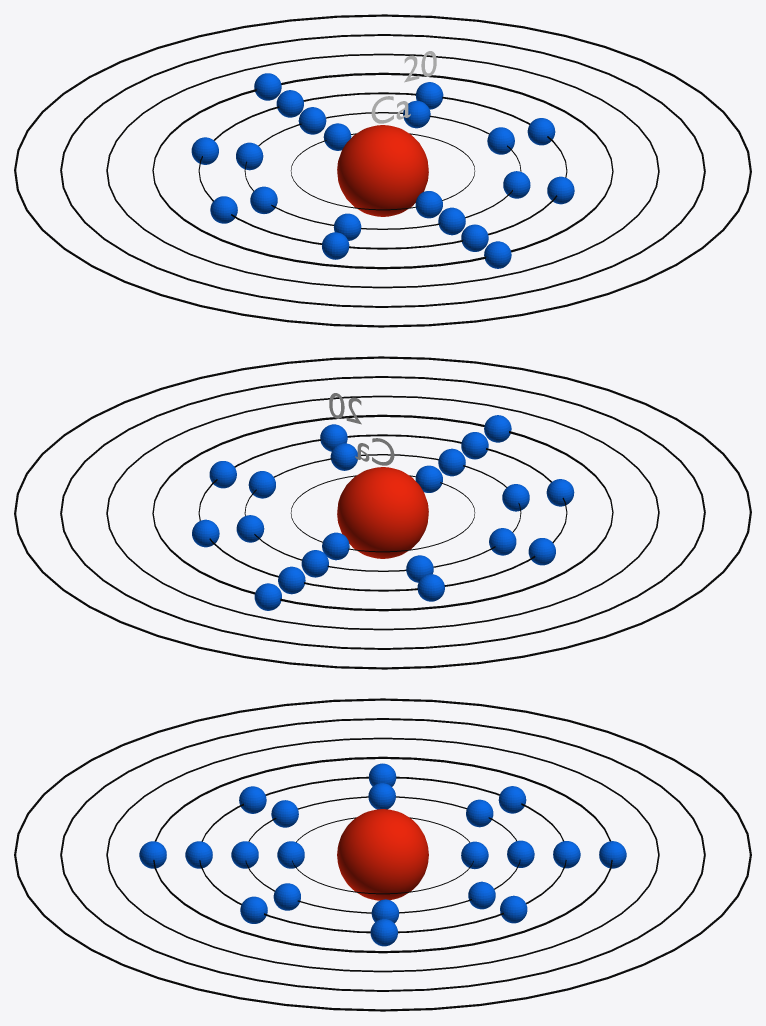
The picture shows the model from 3 angles, top to bottom: view 1: azimuth 30°, elevation 25°; view 2: azimuth 150°, elevation 25°; view 3: azimuth 270°, elevation 25°; orthographic projection.
Parts seen in each view (by area): view 1: Proton, Ca3, Ca2, n7, n6, n5, n4, n3, Ca4, Ca1, n2; view 2: Proton, Ca2, Ca3, n7, n6, n5, n4, n3, Ca4, Ca1, n2; view 3: Proton, Ca2, n7, Ca3, n6, n5, n4, n3, Ca1, Ca4, n2, n1.
Part boxes in pixels (x1,y1,x2,y2): Proton: [337, 125, 428, 216]; Ca3: [191, 82, 574, 259]; Ca2: [236, 100, 530, 240]; n7: [14, 14, 751, 327]; n6: [60, 34, 705, 307]; n5: [106, 53, 659, 288]; n4: [152, 72, 613, 269]; n3: [198, 92, 567, 249]; Ca4: [254, 73, 511, 268]; Ca1: [323, 123, 442, 218]; n2: [244, 112, 521, 229]; Proton: [337, 467, 428, 558]; Ca2: [236, 443, 529, 582]; Ca3: [192, 424, 574, 601]; n7: [14, 356, 751, 669]; n6: [60, 376, 705, 649]; n5: [106, 395, 659, 630]; n4: [152, 414, 613, 611]; n3: [198, 434, 567, 591]; Ca4: [254, 415, 511, 610]; Ca1: [322, 465, 442, 560]; n2: [244, 454, 521, 571]; Proton: [337, 809, 428, 900]; Ca2: [231, 783, 534, 923]; n7: [14, 698, 751, 1011]; Ca3: [185, 763, 580, 946]; n6: [60, 718, 705, 991]; n5: [106, 737, 659, 972]; n4: [153, 756, 612, 953]; n3: [199, 776, 566, 933]; Ca1: [277, 841, 488, 869]; Ca4: [139, 841, 626, 868]; n2: [245, 796, 520, 913]; n1: [292, 817, 473, 894].
Size of the model in its own units: 802 by 180 by 802.
